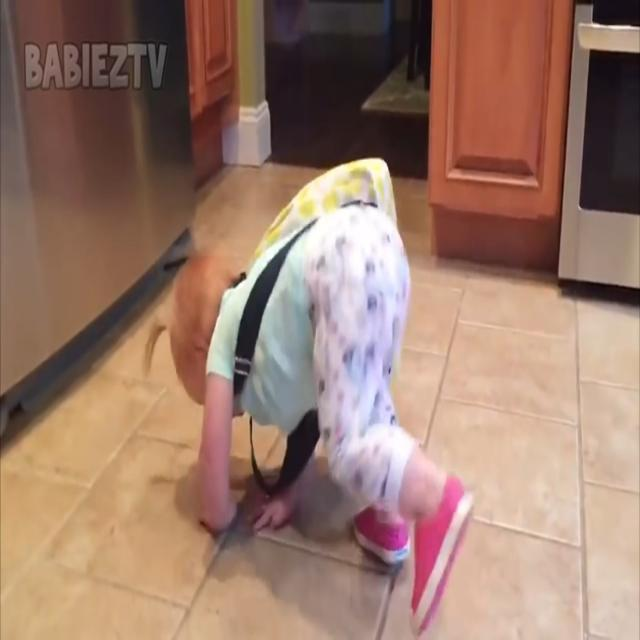child: (166, 157, 473, 632)
